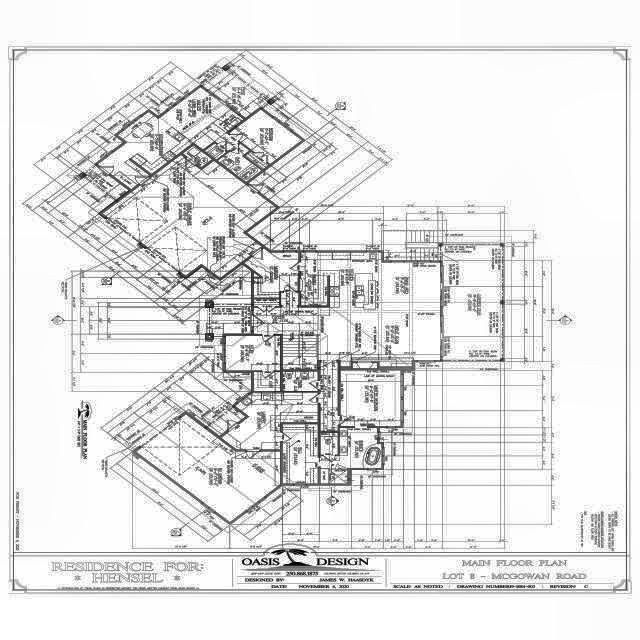room: (103, 126, 286, 302), (221, 392, 318, 449), (229, 103, 302, 171), (320, 428, 382, 484), (340, 370, 401, 426), (217, 142, 264, 188), (283, 424, 318, 484), (226, 336, 280, 371), (183, 143, 212, 170), (283, 371, 318, 391), (254, 372, 280, 391), (204, 141, 227, 162), (320, 433, 338, 455)
